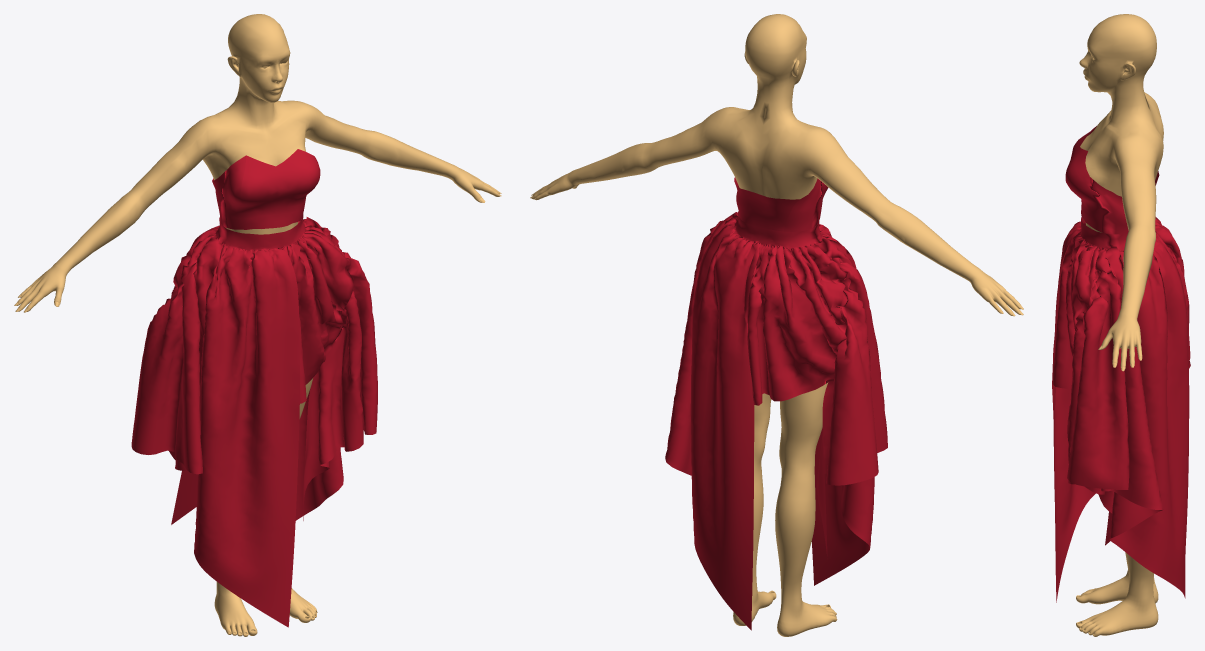
File: dress2.glb
3 views of the same model, side by side, from view 1: azimuth 30°, elevation 25°; view 2: azimuth 150°, elevation 25°; view 3: azimuth 270°, elevation 25° (orthographic).
Visible parts, largest first — view 1: Project 1, Body; view 2: Project 1, Body; view 3: Project 1, Body.
Boxes of the visible parts, x1=… form: Project 1: x1=131, y1=149, x2=377, y2=627; Body: x1=16, y1=14, x2=500, y2=636; Project 1: x1=665, y1=177, x2=887, y2=630; Body: x1=531, y1=14, x2=1021, y2=636; Project 1: x1=1052, y1=126, x2=1190, y2=602; Body: x1=1076, y1=14, x2=1163, y2=636.
Bounding box in the file's own units: 1.58 × 1.85 × 0.3878.
